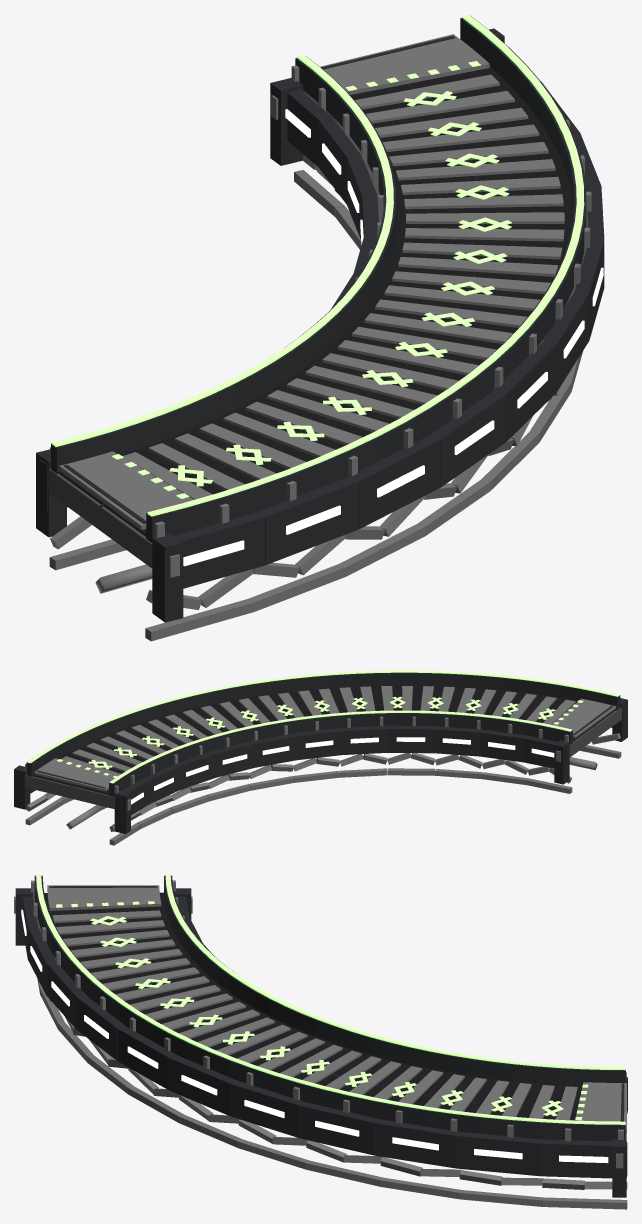
The model's file is Curve_W90_Conveyor_Belt_v4.glb.
The picture shows the model from 3 angles, top to bottom: view 1: azimuth 30°, elevation 25°; view 2: azimuth 150°, elevation 25°; view 3: azimuth 270°, elevation 25°; orthographic projection. The views are drawn at different scales.
Parts seen in each view (by area): view 1: Curve_W90_Conveyor_Belt_v4, Treads, TreadsRev; view 2: Curve_W90_Conveyor_Belt_v4, Treads, TreadsRev; view 3: Curve_W90_Conveyor_Belt_v4, Treads, TreadsRev.
Part boxes in pixels (x1,y1,x2,y2): Curve_W90_Conveyor_Belt_v4: (36, 14, 605, 641); Treads: (122, 74, 564, 499); TreadsRev: (128, 75, 564, 499); Curve_W90_Conveyor_Belt_v4: (14, 670, 627, 845); Treads: (61, 686, 574, 776); TreadsRev: (65, 686, 575, 774); Curve_W90_Conveyor_Belt_v4: (14, 874, 627, 1209); Treads: (52, 910, 577, 1120); TreadsRev: (52, 910, 576, 1120).
Size of the model in its own units: 11.95 by 1.83 by 11.95.
